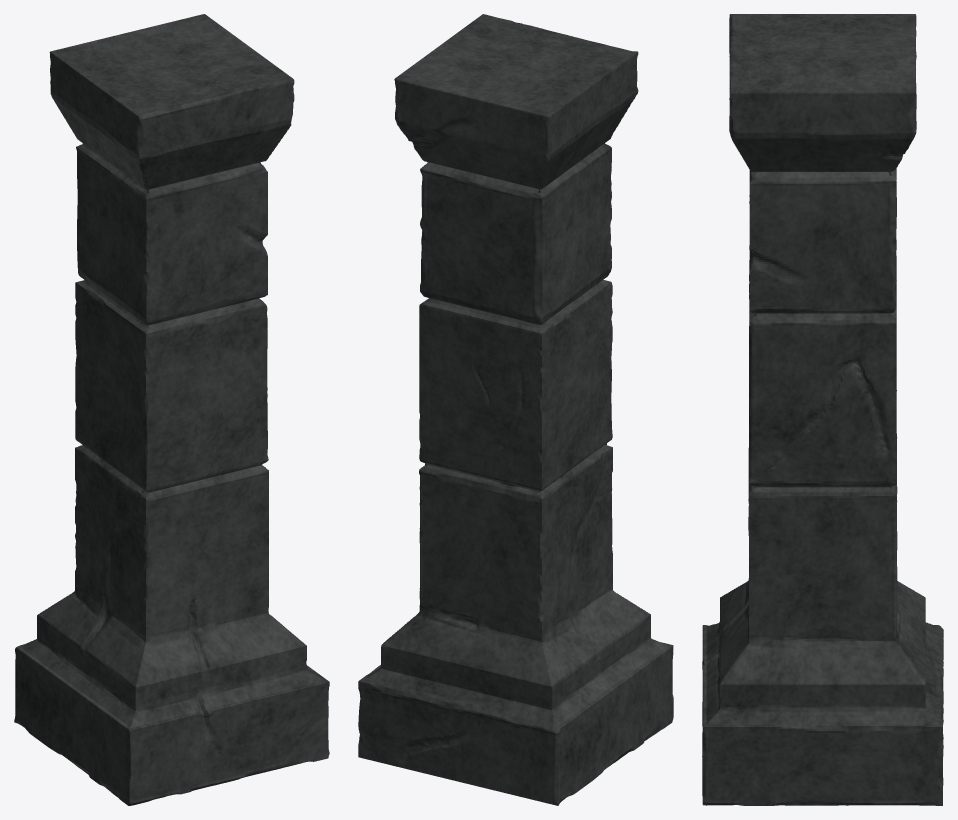
Rendered from Column.fbx.
The picture shows the model from 3 angles, left to right: view 1: azimuth 30°, elevation 25°; view 2: azimuth 150°, elevation 25°; view 3: azimuth 270°, elevation 25°; orthographic projection. The views are drawn at different scales.
Parts seen in each view (by area): view 1: column; view 2: column; view 3: column.
Part boxes in pixels (<box>): column: <box>14,14,329,805</box>; column: <box>358,14,673,805</box>; column: <box>702,14,943,805</box>.
Size of the model in its own units: 151 by 484 by 151.
